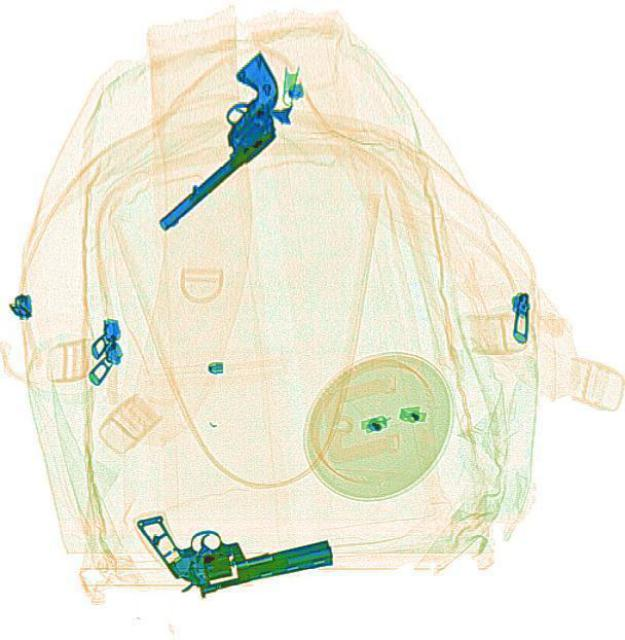Gun: (110, 49, 313, 235), (135, 475, 334, 605)
